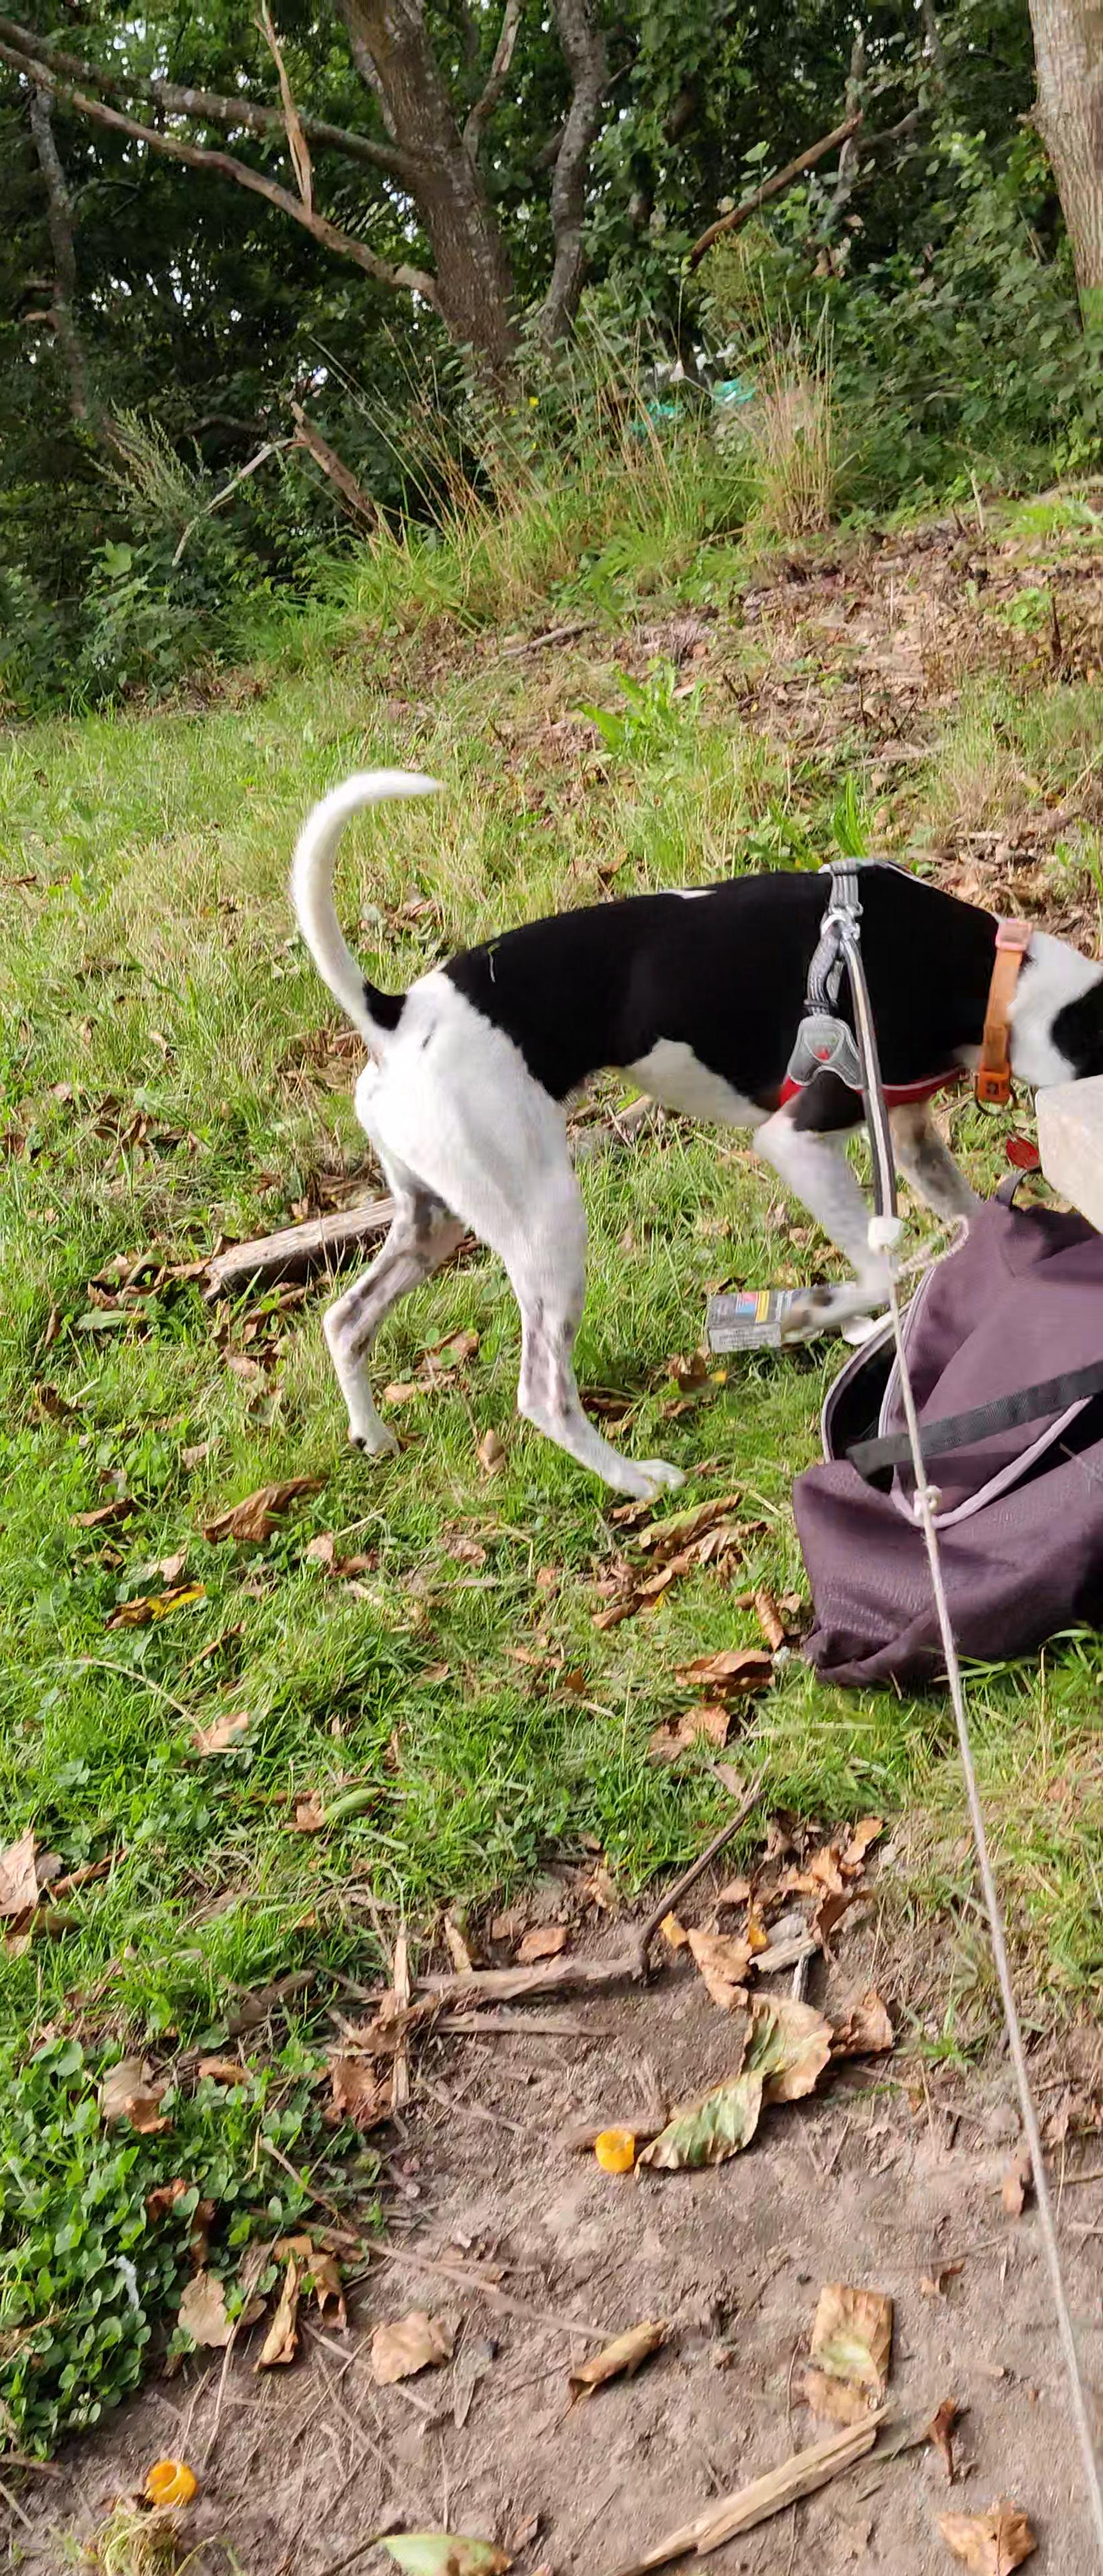Dog: (281, 764, 1103, 1510)
